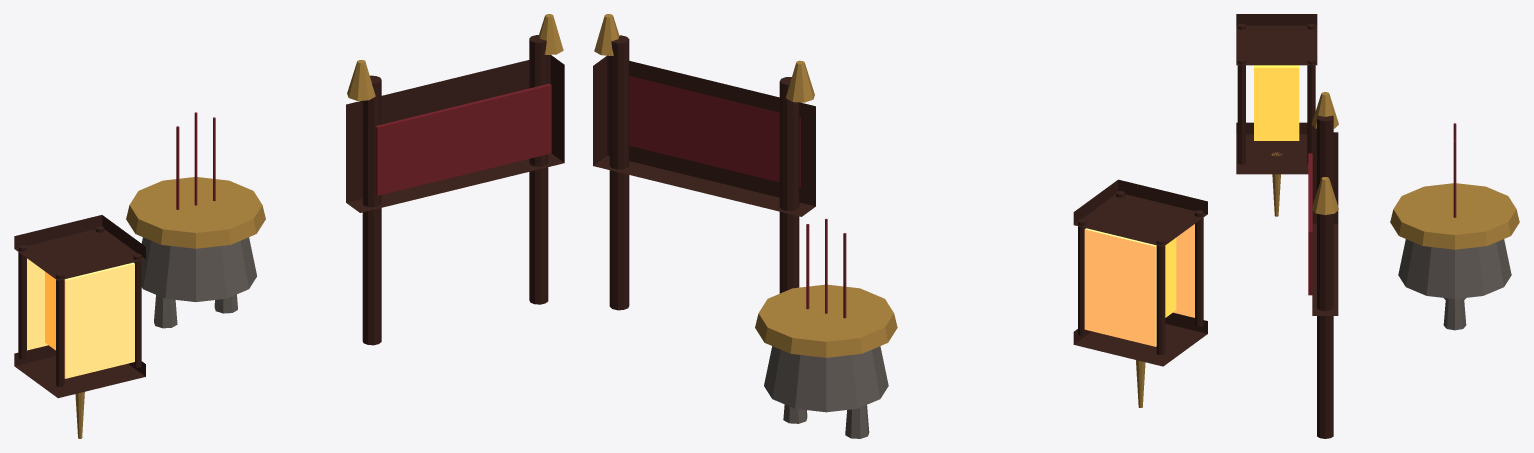
The model's file is pingyao-street-props.glb.
3 renders of one model, left to right at view 1: azimuth 30°, elevation 25°; view 2: azimuth 150°, elevation 25°; view 3: azimuth 270°, elevation 25°, orthographic. The views are drawn at different scales.
Visible parts, largest first — view 1: Sign_Inset, Sign_Board, Burner_Rim, Lantern_Paper, Burner_Bowl, Lantern_Frame_0.82, Sign_Post, Sign_Post.001, Lantern_Frame_0.08, Lantern_Paper.001, Lantern_Post, Lantern_Post.001 (+5 smaller); view 2: Sign_Inset, Sign_Board, Burner_Rim, Lantern_Paper.001, Burner_Bowl, Sign_Post.001, Lantern_Frame_0.82, Sign_Post, Lantern_Frame_0.08, Lantern_Paper, Lantern_Post.001, Lantern_Post (+5 smaller); view 3: Burner_Rim, Burner_Bowl, Lantern_Frame_0.82, Sign_Post.001, Lantern_Warm_Core, Lantern_Frame_0.08, Sign_Board, Sign_Post, Lantern_Post.002, Lantern_Post.003, Sign_Inset, Sign_Finial.001 (+4 smaller).
Part boxes in pixels (x1,y1,x2,y2): Sign_Inset: (375, 83, 551, 195); Sign_Board: (346, 55, 564, 212); Burner_Rim: (126, 177, 265, 248); Lantern_Paper: (64, 262, 134, 378); Burner_Bowl: (141, 237, 256, 301); Lantern_Frame_0.82: (14, 215, 145, 280); Sign_Post: (362, 75, 381, 345); Sign_Post.001: (529, 35, 548, 304); Lantern_Frame_0.08: (14, 345, 145, 398); Lantern_Paper.001: (27, 258, 47, 350); Lantern_Post: (56, 272, 64, 386); Lantern_Post.001: (18, 245, 26, 359); Sign_Inset: (629, 76, 800, 187); Sign_Board: (593, 55, 815, 216); Burner_Rim: (755, 284, 897, 357); Lantern_Paper.001: (1084, 228, 1156, 346); Burner_Bowl: (764, 346, 888, 412); Sign_Post.001: (609, 35, 629, 310); Lantern_Frame_0.82: (1073, 179, 1207, 246); Sign_Post: (779, 77, 799, 293); Lantern_Frame_0.08: (1073, 312, 1207, 366); Lantern_Paper: (1173, 224, 1194, 317); Lantern_Post.001: (1156, 238, 1165, 354); Lantern_Post: (1195, 210, 1203, 326); Burner_Rim: (1390, 183, 1519, 249); Burner_Bowl: (1398, 239, 1511, 298); Lantern_Frame_0.82: (1236, 14, 1317, 65); Sign_Post.001: (1317, 214, 1333, 438); Lantern_Warm_Core: (1254, 65, 1299, 140); Lantern_Frame_0.08: (1236, 122, 1316, 174); Sign_Board: (1312, 132, 1338, 315); Sign_Post: (1317, 115, 1333, 191); Lantern_Post.002: (1237, 58, 1245, 164); Lantern_Post.003: (1307, 58, 1315, 163); Sign_Inset: (1308, 153, 1312, 295); Sign_Finial.001: (1311, 177, 1338, 215).
Bounding box in the file's own units: 3.64 × 1.78 × 1.75.
